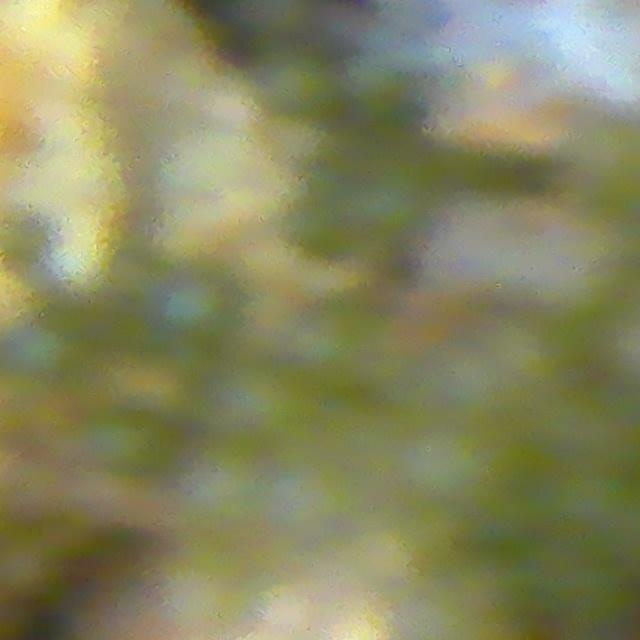SeaGrape: (159, 274, 231, 343), (8, 314, 80, 383)
